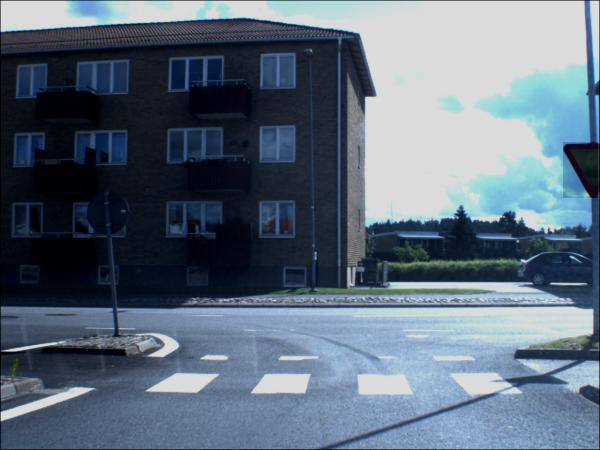GIVE_WAY: (564, 143, 600, 200)
